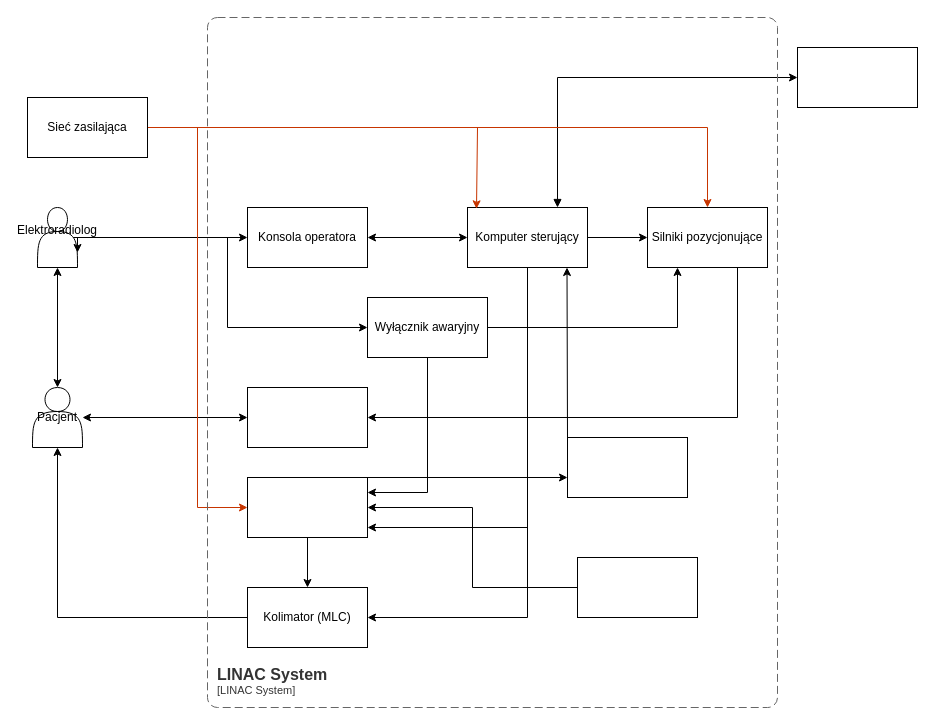
The diagram is 935 pixels wide and 725 high, and some of its shapes have lost their labels. Each missing label, with the box of its shape:
Akcelerator liniowy: (246, 476, 368, 538)
Baza danych pacjentów: (796, 46, 918, 108)
Blokada drzwi bunkra: (576, 556, 698, 618)
Detektor dawki promieniowania: (566, 436, 688, 498)
Stół pacjenta: (246, 386, 368, 448)
